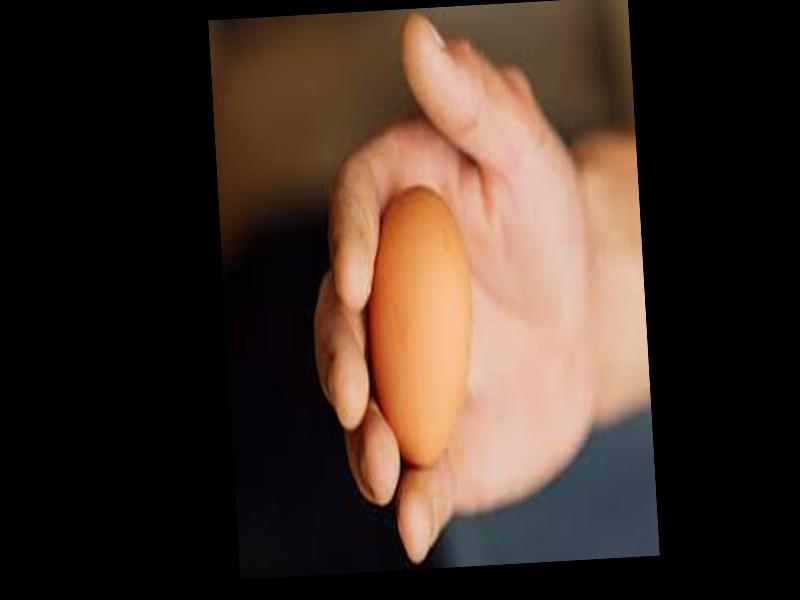Eggs: (364, 187, 479, 470)
